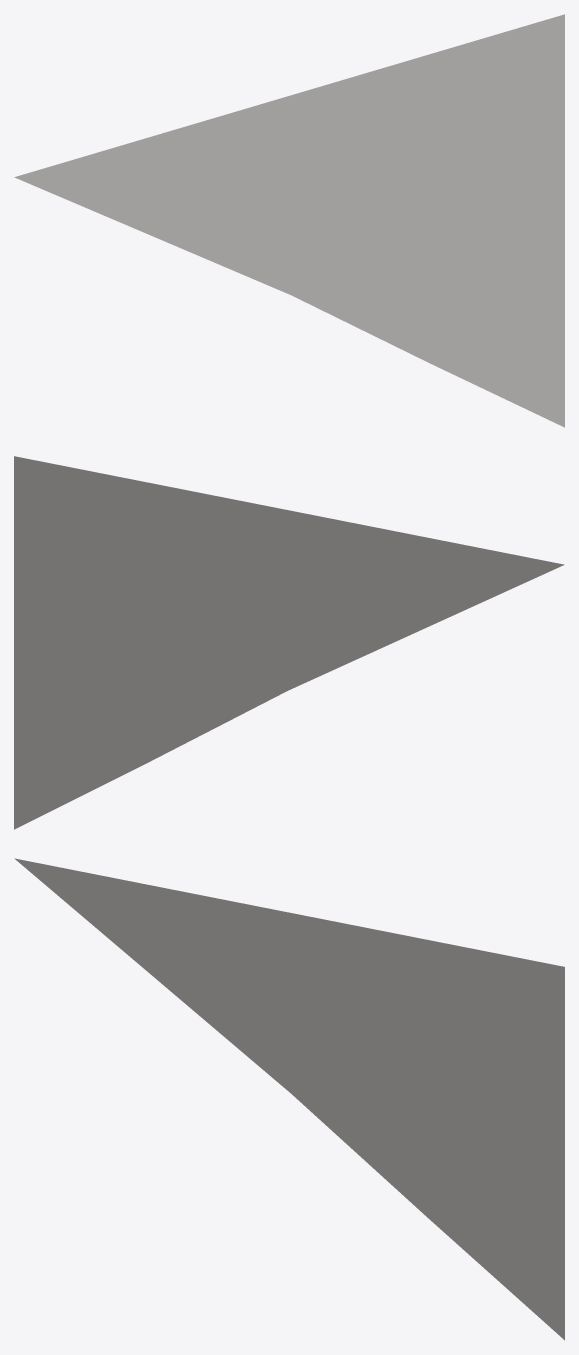
The model's file is kd_stage_135ded_4_78_exterior_piece_2.glb.
3 renders of one model, top to bottom at view 1: azimuth 30°, elevation 25°; view 2: azimuth 150°, elevation 25°; view 3: azimuth 330°, elevation 25°, orthographic. The views are drawn at different scales.
Visible parts, largest first — view 1: kd_stage_135ded_4_78_exterior_piece_2; view 2: kd_stage_135ded_4_78_exterior_piece_2; view 3: kd_stage_135ded_4_78_exterior_piece_2.
Part boxes in pixels (box(x1,y1,x2,y2)): kd_stage_135ded_4_78_exterior_piece_2: box(14, 14, 564, 427); kd_stage_135ded_4_78_exterior_piece_2: box(14, 456, 564, 829); kd_stage_135ded_4_78_exterior_piece_2: box(14, 858, 564, 1340).
Bounding box in the file's own units: 0.4153 × 0.2828 × 0.0363.
Materials: 1 (1 with a texture image).
